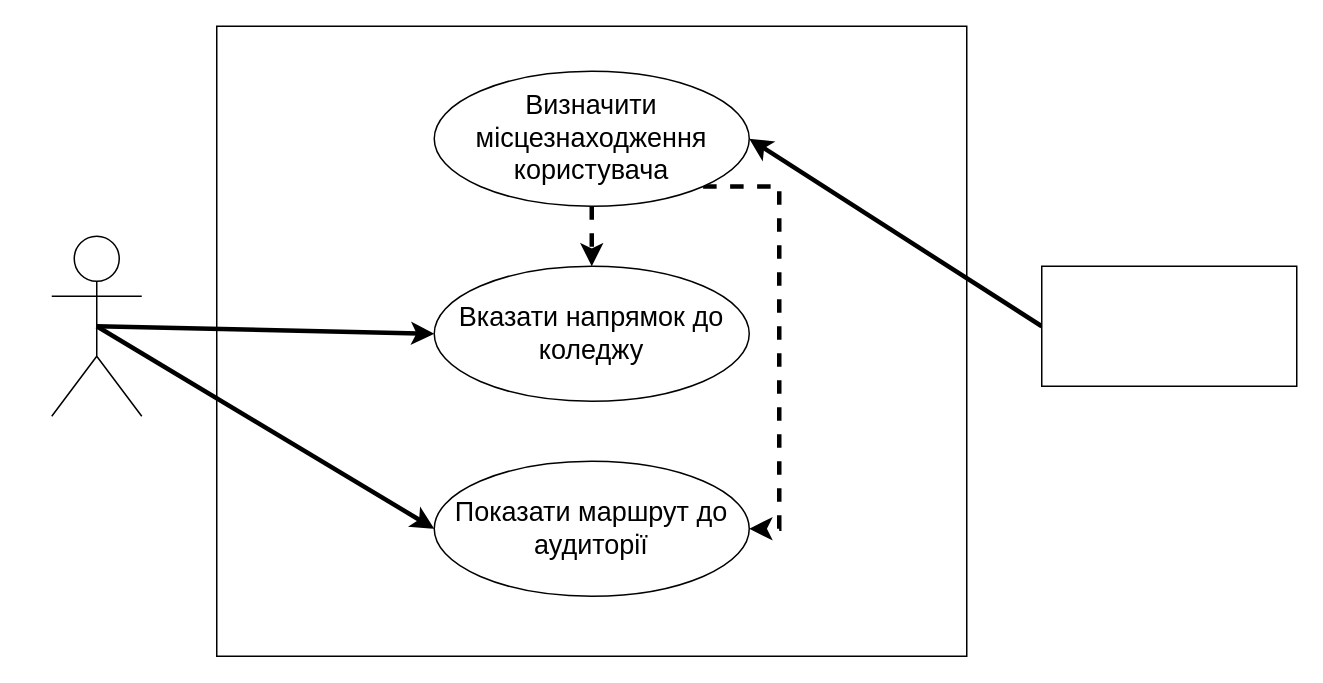
Image size: 1323x683. Some labels were removed from this diagram. The shapes that lost their labels are listed below. From the top down, each one's box as (x1, y1, x2, y2) in pixels, then its label:
(50, 235, 142, 416): Користувач
(1040, 265, 1297, 386): Система позиціонування
